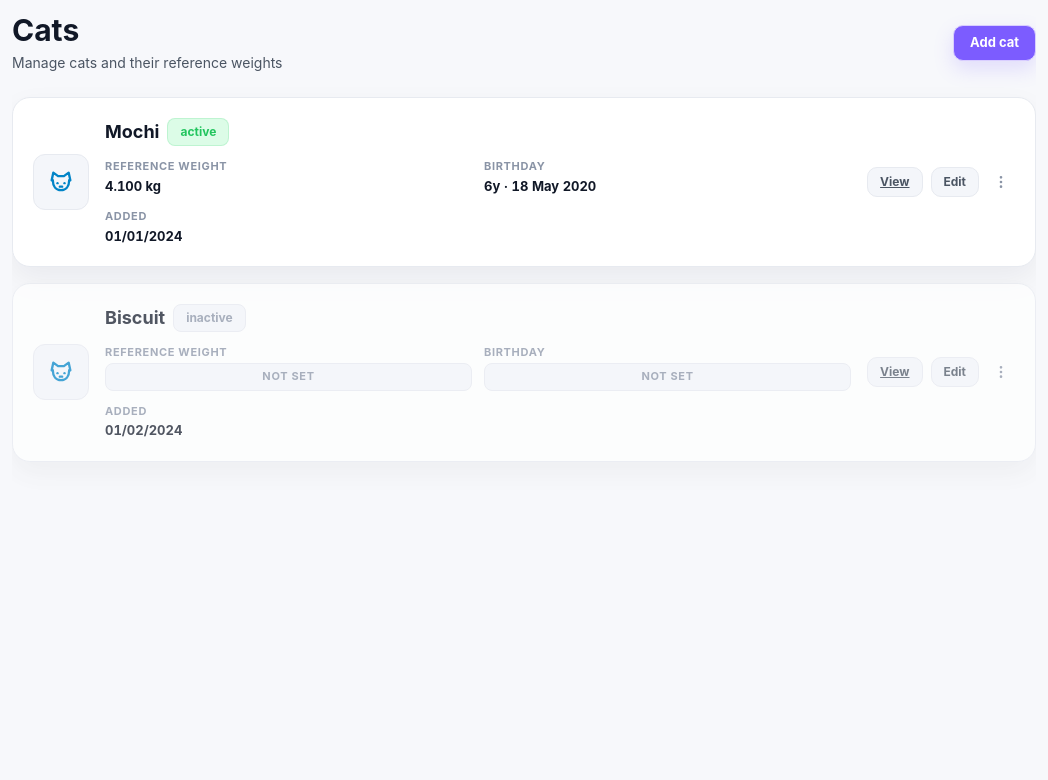
Cats page › handleToggleActive › shows an error toast when deactivate fails
This screenshot has width=1048, height=780.
Click the button named "Actions for Mochi": (1001, 182) [987,168,1015,196]
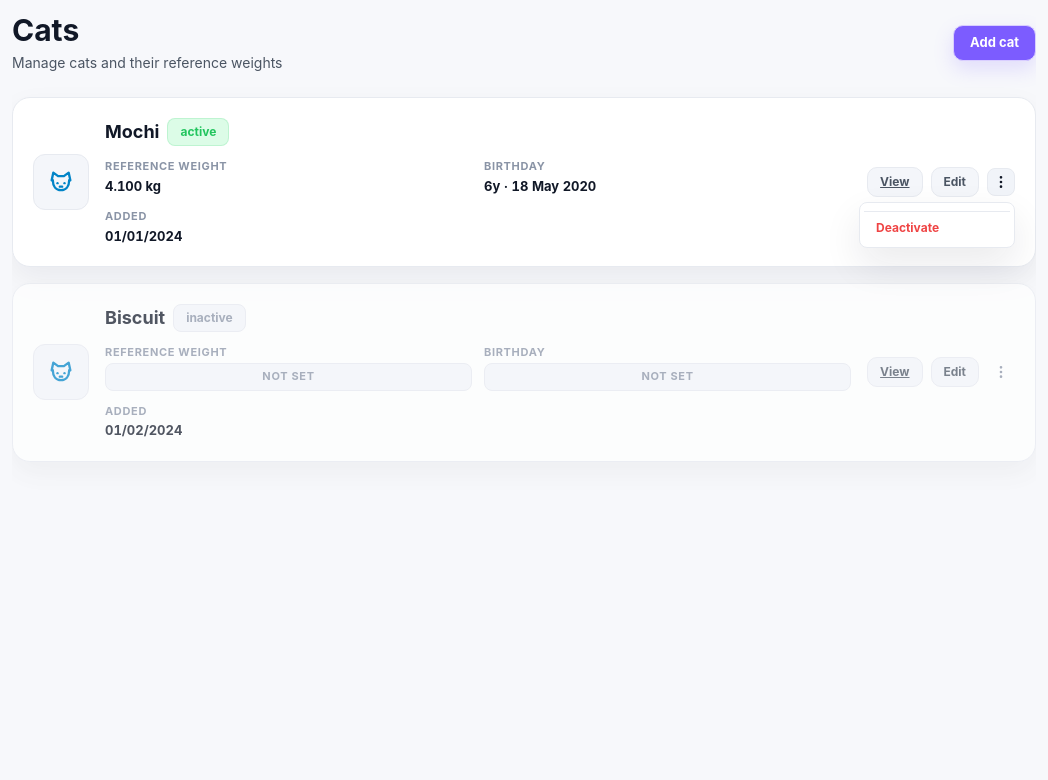
Click the button "Deactivate": (937, 227) [864,211,1010,243]
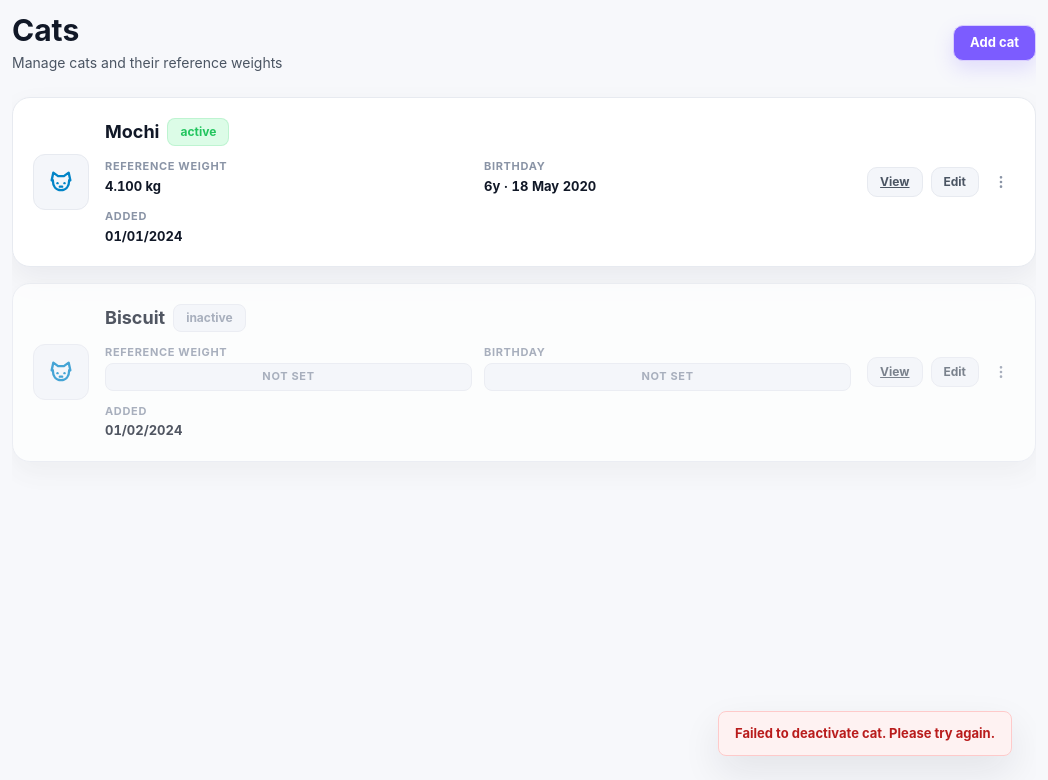
Expected: the message shows "Failed to deactivate cat", [735,724,995,740]
